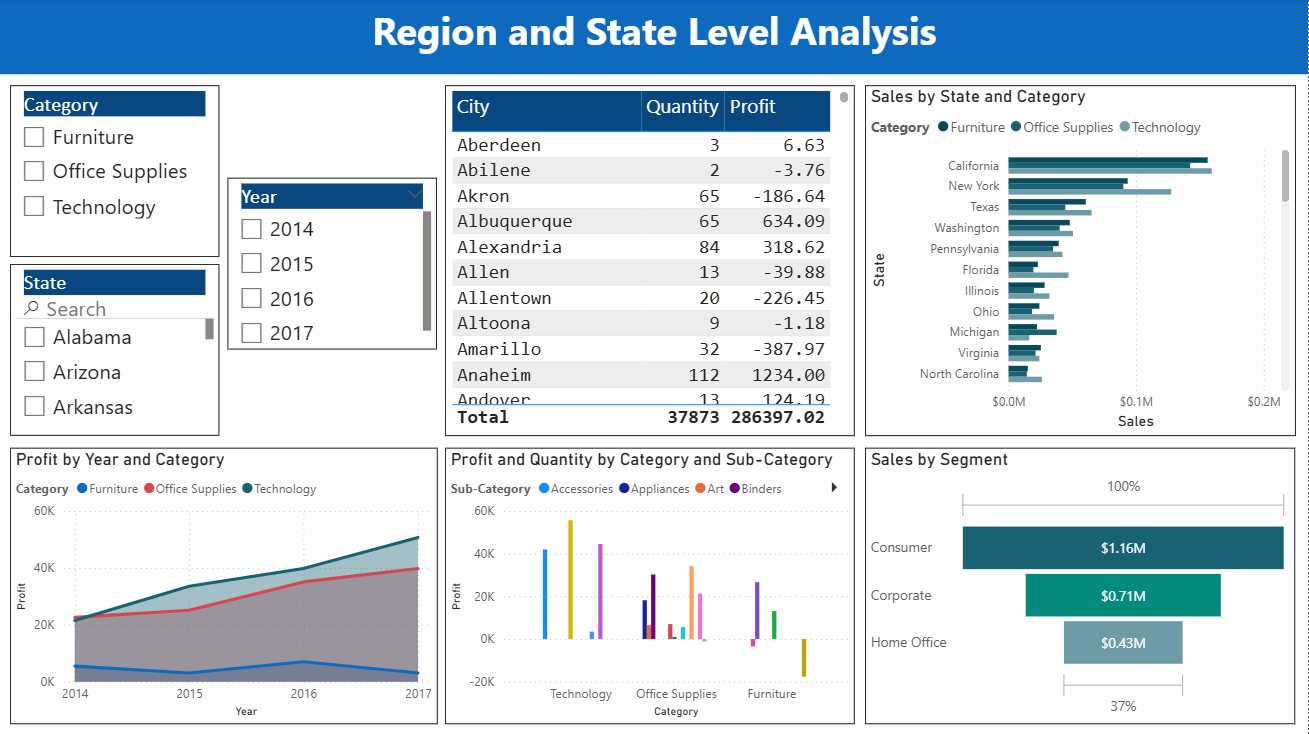

This screenshot's page, from the dashboard's own definition file:
{"tool":"powerbi","page":{"name":"Region and State","canvas":[1280,720],"ordinal":1},"visuals":[{"type":"textbox","box":[0,0,1280.2,73.4],"z":0},{"type":"slicer","fields":{"Values":["Orders.Category"]},"box":[10,84,205,168],"z":1000},{"type":"tableEx","fields":{"Values":["Orders.City","Sum(Orders.Quantity)","Sum(Orders.Profit)"]},"box":[435,84,401,343],"z":2000},{"type":"slicer","fields":{"Values":["Orders.State"]},"box":[10,259,205,168],"z":3000},{"type":"slicer","fields":{"Values":["Orders.Order Date.Variation.Date Hierarchy.Year"]},"box":[223,175,205,168],"z":4000},{"type":"clusteredBarChart","fields":{"Category":["Orders.State"],"Series":["Orders.Category"],"Y":["Sum(Orders.Sales)"]},"box":[845.7,84.3,421.4,342.9],"z":5000},{"type":"areaChart","fields":{"Category":["Orders.Order Date.Variation.Date Hierarchy.Year"],"Series":["Orders.Category"],"Y":["Sum(Orders.Profit)"]},"box":[10,438.6,418.6,270],"z":6000},{"type":"lineClusteredColumnComboChart","fields":{"Category":["Orders.Category"],"Series":["Orders.Sub-Category"],"Y":["Sum(Orders.Profit)"]},"box":[435,439,401,270],"z":7000},{"type":"funnel","fields":{"Category":["Orders.Segment"],"Y":["Sum(Orders.Sales)"]},"box":[846,439,421,270],"z":8000}]}

Visuals, with their boxes in screenshot pixels (x1, y1, x2, y2), scaled from the page's 1280x720 canvas onto the 1309x734 screenshot:
textbox: l=0, t=0, r=1308, b=75
slicer - Orders.Category: l=10, t=86, r=220, b=257
tableEx - Orders.City x Sum(Orders.Quantity): l=445, t=86, r=855, b=435
slicer - Orders.State: l=10, t=264, r=220, b=435
slicer - Orders.Order Date.Variation.Date Hierarchy.Year: l=228, t=178, r=438, b=350
clusteredBarChart - Orders.State x Orders.Category: l=865, t=86, r=1296, b=436
areaChart - Orders.Order Date.Variation.Date Hierarchy.Year x Orders.Category: l=10, t=447, r=438, b=722
lineClusteredColumnComboChart - Orders.Category x Orders.Sub-Category: l=445, t=448, r=855, b=723
funnel - Orders.Segment x Sum(Orders.Sales): l=865, t=448, r=1296, b=723
